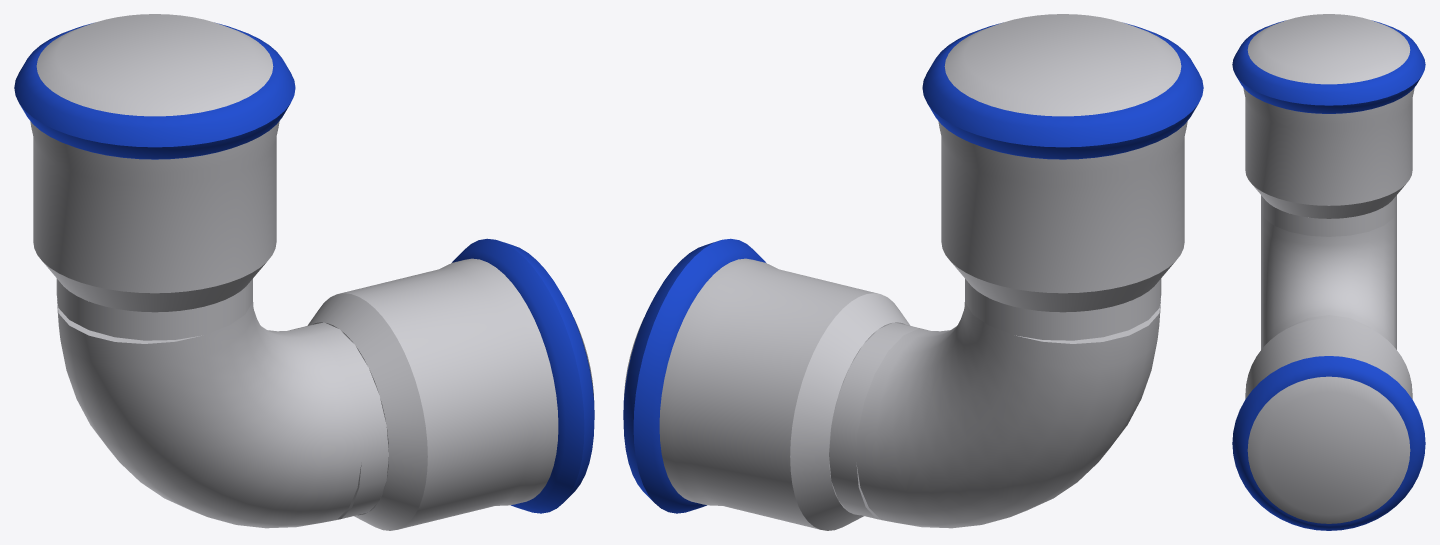
The model's file is fitting_e90_22.glb.
3 renders of one model, left to right at view 1: azimuth 30°, elevation 25°; view 2: azimuth 150°, elevation 25°; view 3: azimuth 270°, elevation 25°, orthographic. The views are drawn at different scales.
Visible parts, largest first — view 1: раструб.001, изгиб, раструб, кольцо пресс.001, кольцо пресс, корпус.001, корпус; view 2: раструб.001, изгиб, раструб, кольцо пресс.001, кольцо пресс, корпус.001, корпус; view 3: раструб.001, раструб, изгиб, кольцо пресс, кольцо пресс.001, корпус.001.
Part boxes in pixels (x1,y1,x2,y2): раструб.001: (30,14,279,312); изгиб: (57,299,361,528); раструб: (307,258,593,530); кольцо пресс.001: (14,23,295,159); кольцо пресс: (452,238,594,513); корпус.001: (56,278,252,340); корпус: (290,322,388,519); раструб.001: (938,14,1187,312); изгиб: (856,299,1160,528); раструб: (624,258,910,530); кольцо пресс.001: (922,23,1203,159); кольцо пресс: (623,238,765,513); корпус.001: (965,278,1161,340); корпус: (829,322,927,519); раструб.001: (1243,14,1414,218); раструб: (1245,318,1412,523); изгиб: (1261,210,1396,349); кольцо пресс: (1232,356,1425,530); кольцо пресс.001: (1232,20,1425,113); корпус.001: (1261,195,1396,236).
Bounding box in the file's own units: 0.0748 × 0.0748 × 0.0356.
